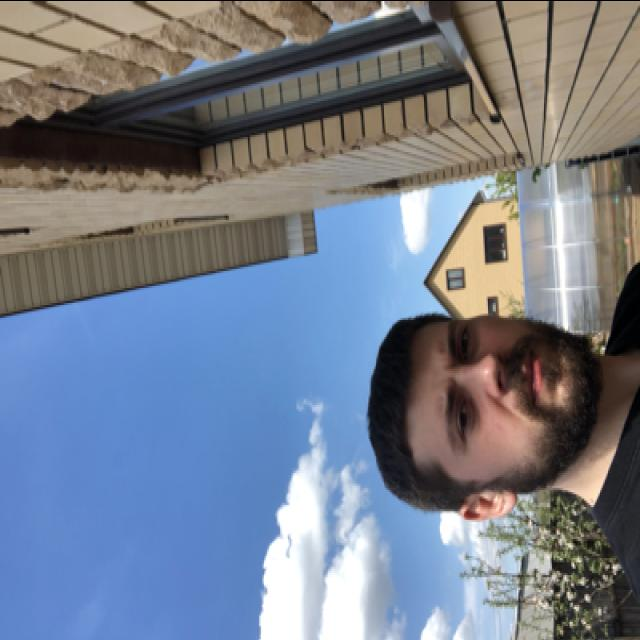no_mask: (430, 315, 596, 461)
